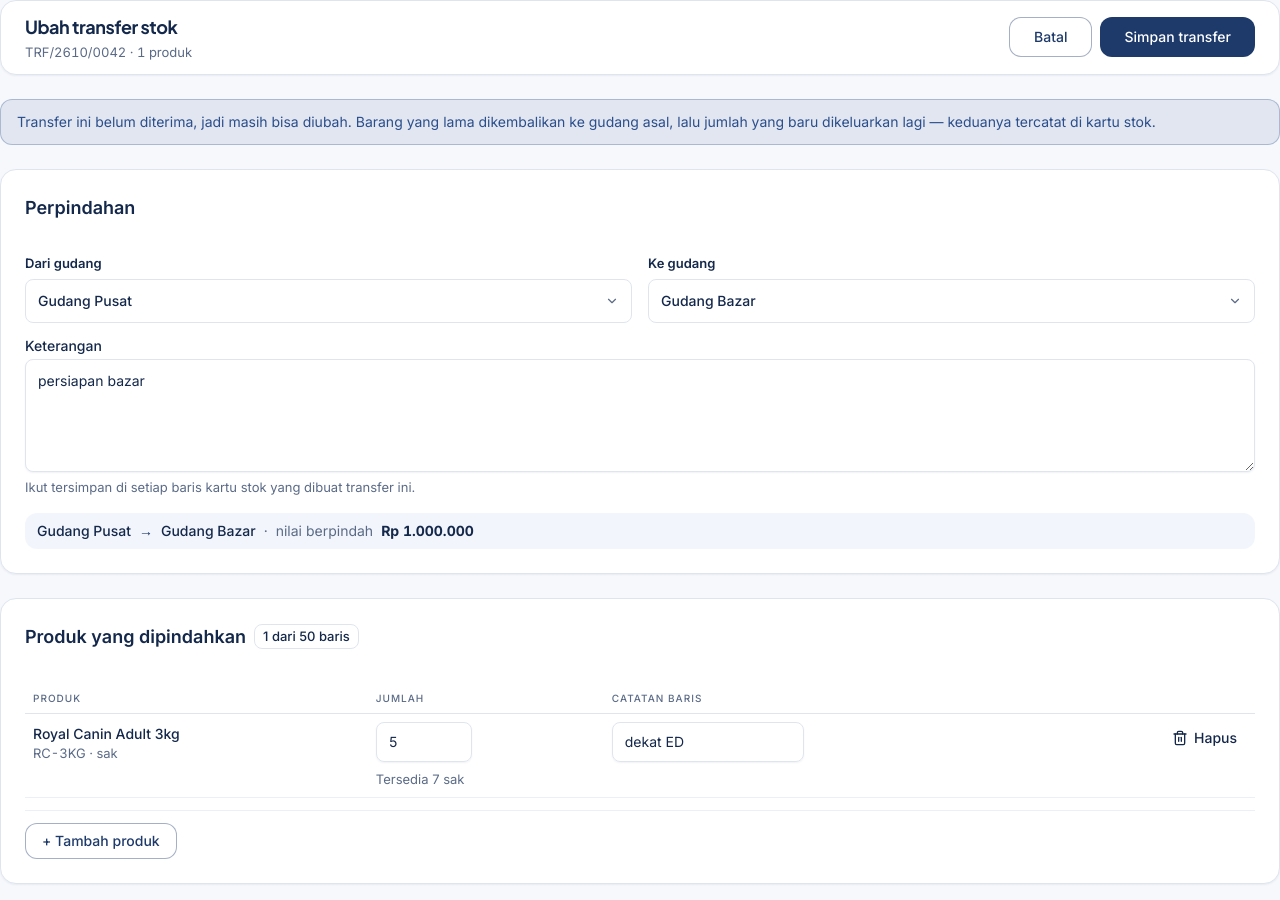
Test: counts what the transfer already took as available
Replace the text in the field named "Jumlah" with "7". click: (424, 742)
box: 376,722 -> 472,762
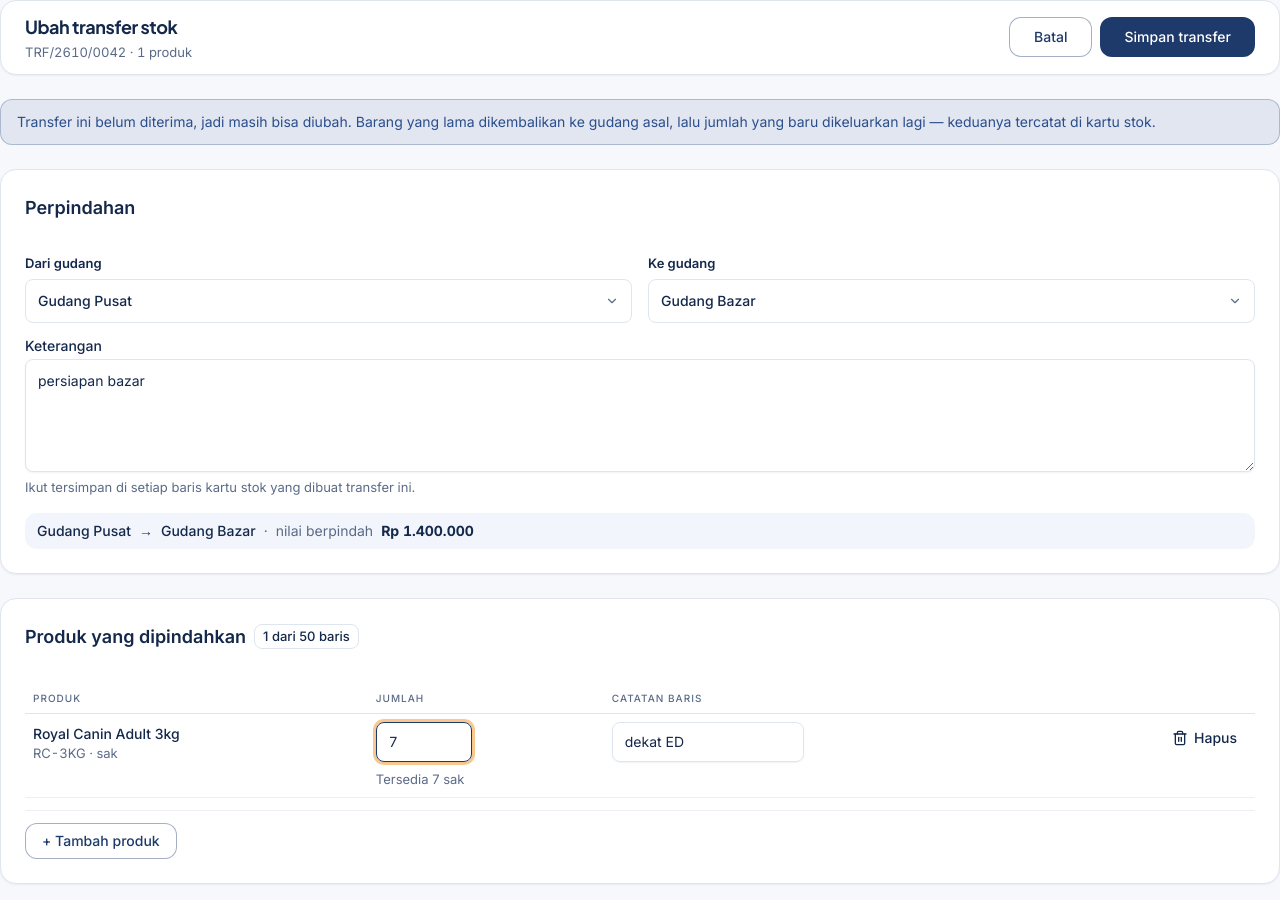
Expected: the text "Melebihi stok" is not shown
Expected: the button "Simpan transfer" is enabled, 1100,17 -> 1255,57
Replace the text in the field named "Jumlah" with "8". click: (424, 742)
box: 376,722 -> 472,762
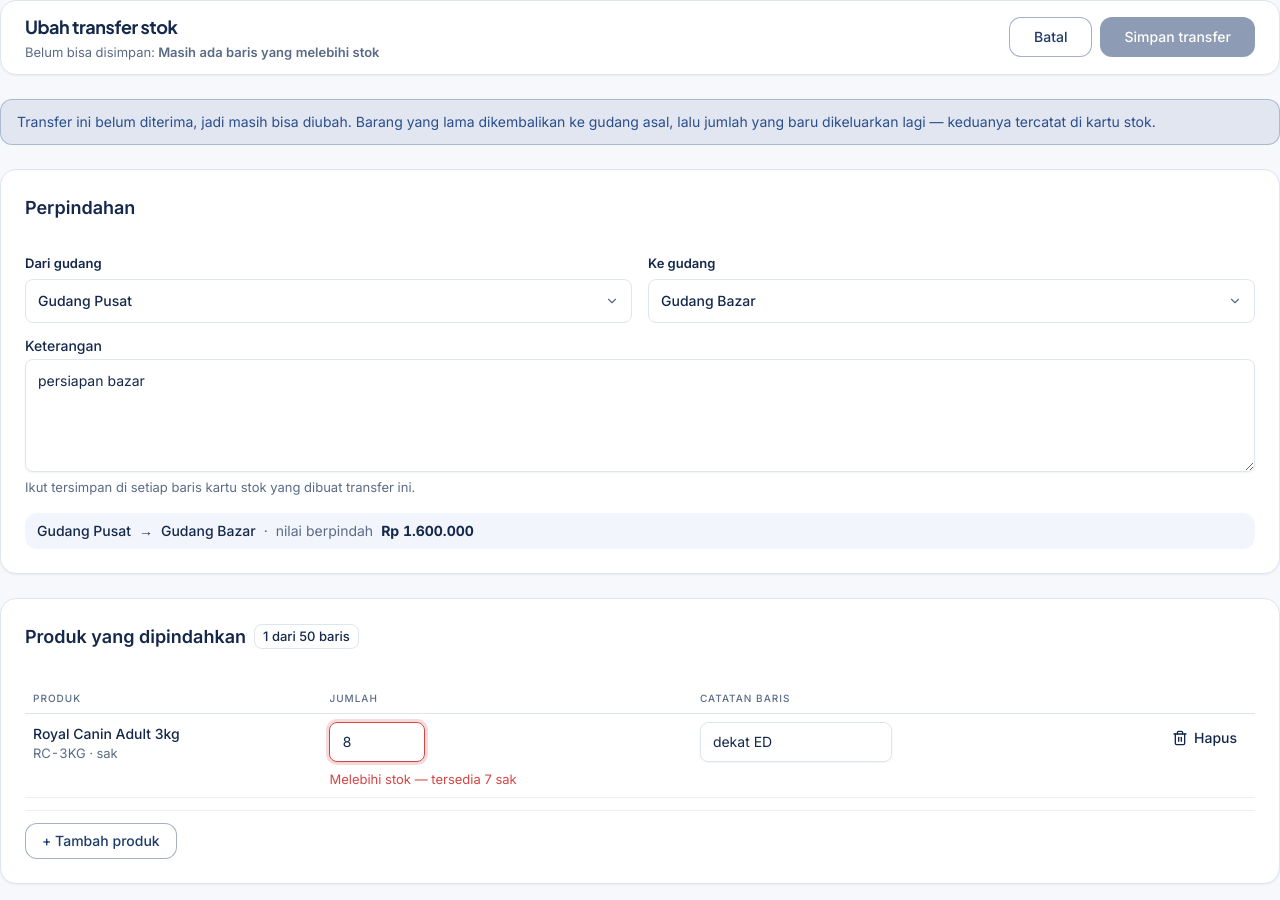
Now the button "Simpan transfer" is disabled, box 1100,17 -> 1255,57
Now the text "Melebihi stok — tersedia 7 sak" is shown, box 329,771 -> 517,787
